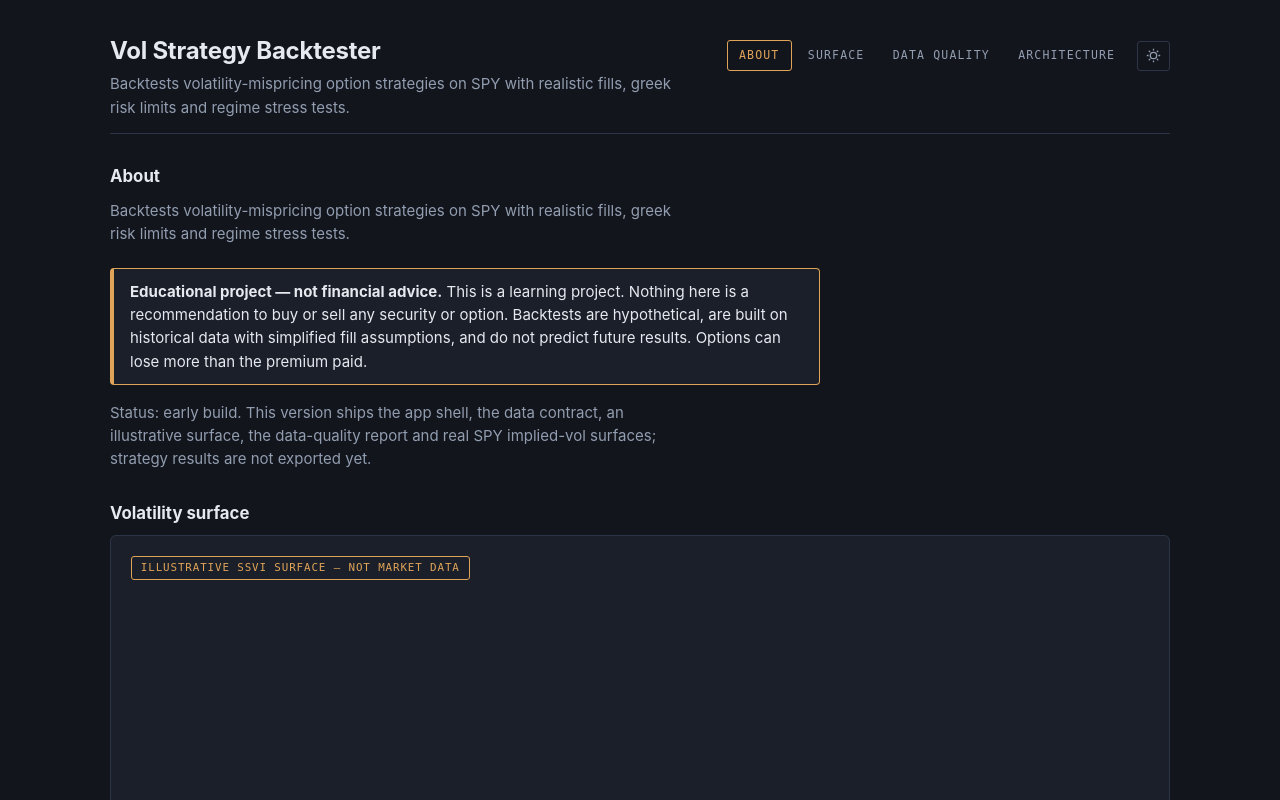
Scenario: App (integration) › navigates to the Data quality tab, which shows the exported aggregates without refetching
Expected: the text "Illustrative SSVI surface — not market data" is shown, [131,556,470,580]
Click the link "Data quality" at (941, 55), box [893,48,990,62]
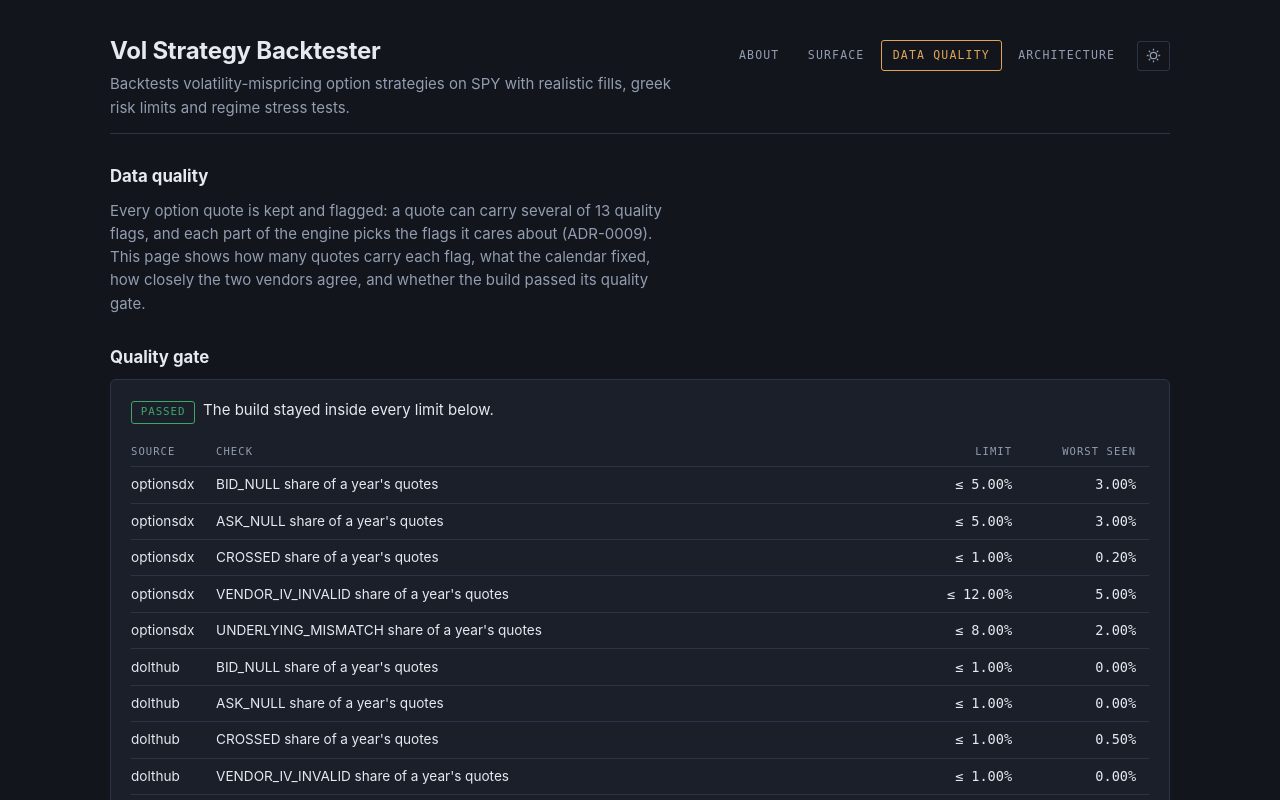
Expected: the heading "Data quality" is shown, [110,166,208,186]
Expected: the text "Passed" is shown, [131,401,195,424]
Expected: the text "Illustrative SSVI surface — not market data" is gone
